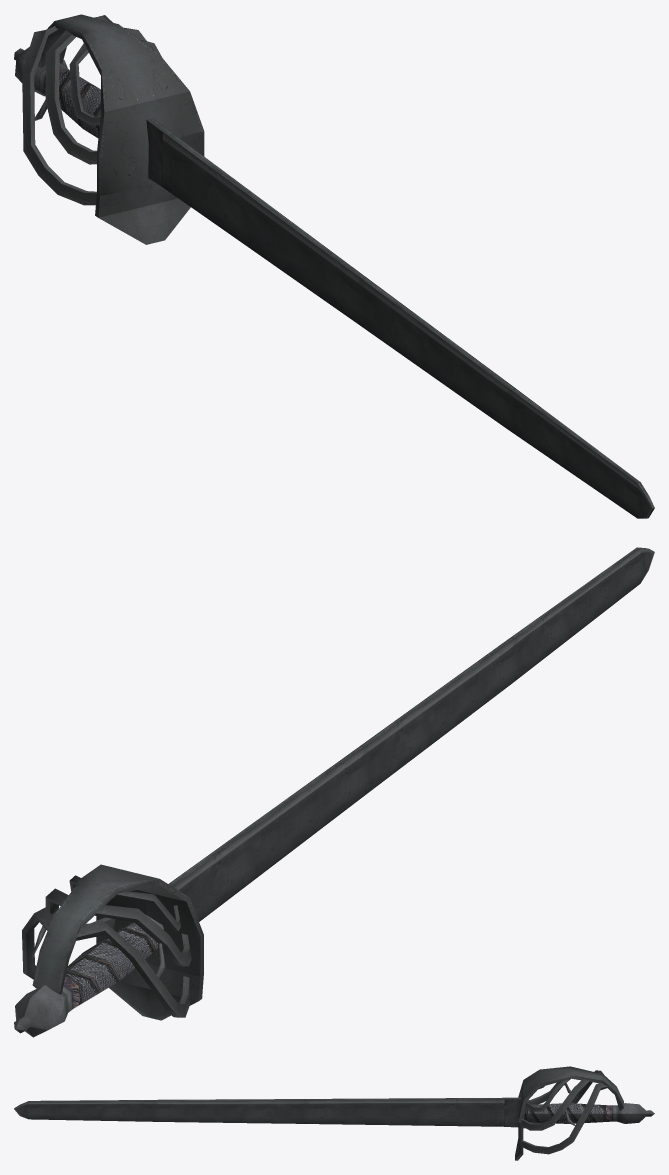
File: _fixed_CR_W_HeavyCavalrySword_LOD0.obj
The picture shows the model from 3 angles, top to bottom: view 1: azimuth 30°, elevation 25°; view 2: azimuth 150°, elevation 25°; view 3: azimuth 270°, elevation 25°; orthographic projection. The views are drawn at different scales.
Parts seen in each view (by area): view 1: CR_W_HeavyCavalrySword_LOD0_0; view 2: CR_W_HeavyCavalrySword_LOD0_0; view 3: CR_W_HeavyCavalrySword_LOD0_0.
Part boxes in pixels (x1=…): CR_W_HeavyCavalrySword_LOD0_0: x1=14, y1=14, x2=654, y2=518; CR_W_HeavyCavalrySword_LOD0_0: x1=14, y1=547, x2=654, y2=1037; CR_W_HeavyCavalrySword_LOD0_0: x1=14, y1=1066, x2=654, y2=1160.
Bounding box in the file's own units: 40.04 × 44.86 × 298.
